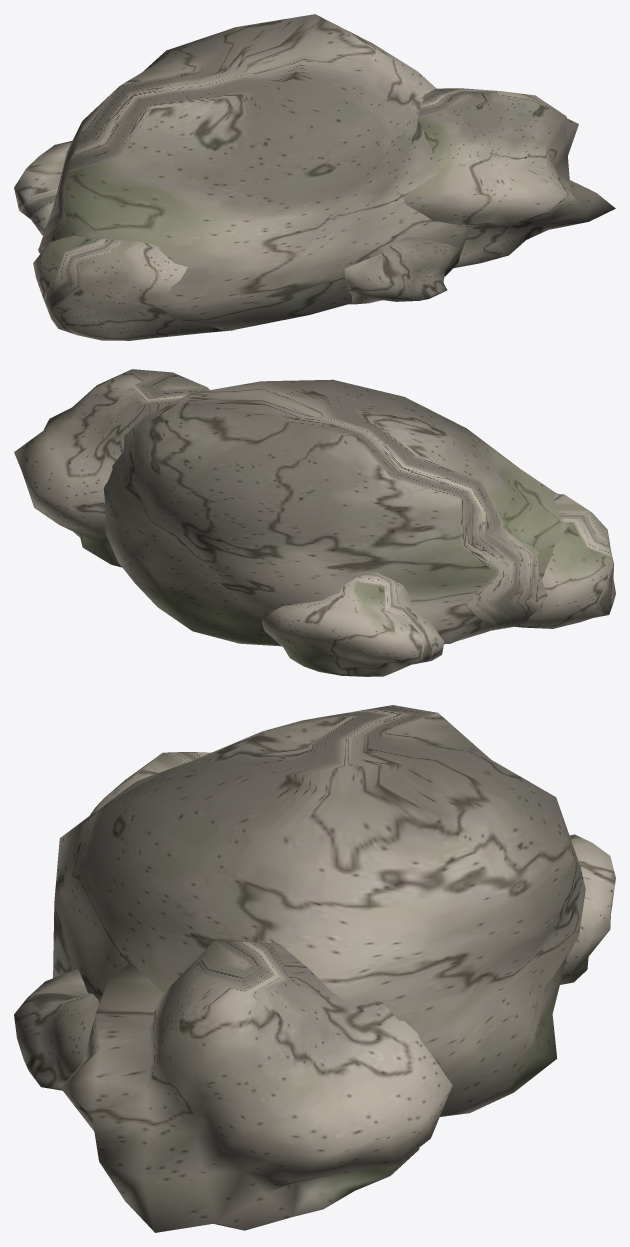
Rendered from prop_rocks.glb.
3 views of the same model, one above another, from view 1: azimuth 30°, elevation 25°; view 2: azimuth 150°, elevation 25°; view 3: azimuth 270°, elevation 25° (orthographic). The views are drawn at different scales.
Parts seen in each view (by area): view 1: rock, rock.001, rock.002, rock.003, rock.004; view 2: rock, rock.001, rock.004, rock.002; view 3: rock, rock.001, rock.003, rock.004, rock.002.
Part boxes in pixels (x1=…): rock: x1=38, y1=14, x2=468, y2=330; rock.001: x1=403, y1=88, x2=615, y2=268; rock.002: x1=33, y1=235, x2=233, y2=340; rock.003: x1=344, y1=237, x2=460, y2=304; rock.004: x1=14, y1=141, x2=71, y2=235; rock: x1=103, y1=379, x2=567, y2=646; rock.001: x1=14, y1=369, x2=209, y2=567; rock.004: x1=262, y1=572, x2=444, y2=676; rock.002: x1=514, y1=493, x2=615, y2=628; rock: x1=53, y1=705, x2=585, y2=1116; rock.001: x1=61, y1=941, x2=452, y2=1232; rock.003: x1=14, y1=969, x2=99, y2=1090; rock.004: x1=560, y1=834, x2=615, y2=984; rock.002: x1=90, y1=752, x2=210, y2=815.
Bounding box in the file's own units: 9.22 × 3.08 × 5.92.
Materials: 1 (1 with a texture image).
